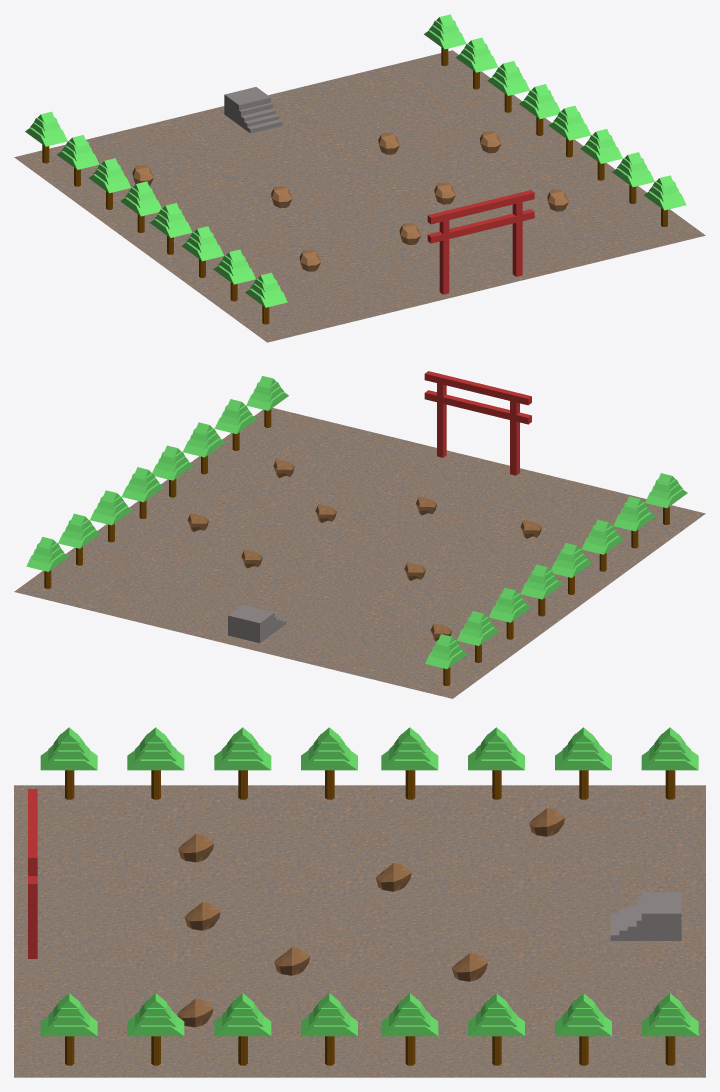
3 views of the same model, one above another, from view 1: azimuth 30°, elevation 25°; view 2: azimuth 150°, elevation 25°; view 3: azimuth 270°, elevation 25° (orthographic). The views are drawn at different scales.
Visible parts, largest first — view 1: isGround, Torii, Wood17, Wood8, Wood2, Wood15, Wood1, Wood11, Wood14, Wood9, Wood5, Wood12 (+7 smaller); view 2: isGround, Torii, Wood17, Wood6, Wood3, Wood16, Wood2, Wood5, Wood9, Wood15, Wood8, Wood12 (+7 smaller); view 3: isGround, Wood17, Wood12, Wood9, Wood5, Wood8, Wood15, Wood16, Wood14, Wood1, Wood2, Wood3 (+14 smaller).
Boxes of the visible parts, bbox=[...] form: isGround: bbox=[14, 50, 705, 342]; Torii: bbox=[427, 190, 534, 294]; Wood17: bbox=[224, 87, 282, 133]; Wood8: bbox=[25, 111, 67, 163]; Wood2: bbox=[213, 249, 255, 301]; Wood15: bbox=[612, 152, 654, 203]; Wood1: bbox=[245, 272, 287, 324]; Wood11: bbox=[487, 61, 529, 112]; Wood14: bbox=[580, 129, 622, 180]; Wood9: bbox=[424, 14, 466, 65]; Wood5: bbox=[120, 181, 161, 232]; Wood12: bbox=[519, 84, 560, 135]; isGround: bbox=[14, 408, 705, 698]; Torii: bbox=[424, 371, 531, 475]; Wood17: bbox=[228, 605, 285, 643]; Wood6: bbox=[489, 587, 531, 639]; Wood3: bbox=[581, 519, 623, 571]; Wood16: bbox=[246, 376, 288, 427]; Wood2: bbox=[613, 496, 655, 548]; Wood5: bbox=[520, 564, 562, 616]; Wood9: bbox=[26, 537, 68, 588]; Wood15: bbox=[214, 399, 256, 450]; Wood8: bbox=[425, 634, 467, 685]; Wood12: bbox=[121, 467, 163, 518]; isGround: bbox=[14, 785, 705, 1077]; Wood17: bbox=[610, 892, 681, 940]; Wood12: bbox=[381, 993, 438, 1065]; Wood9: bbox=[641, 993, 698, 1065]; Wood5: bbox=[381, 727, 438, 799]; Wood8: bbox=[641, 727, 698, 799]; Wood15: bbox=[127, 993, 184, 1065]; Wood16: bbox=[40, 993, 97, 1065]; Wood14: bbox=[214, 993, 271, 1065]; Wood1: bbox=[40, 727, 97, 799]; Wood2: bbox=[127, 727, 184, 799]; Wood3: bbox=[214, 727, 271, 799].
Size of the model in its own units: 24 by 4.18 by 24.
6 materials, 2 textured.
